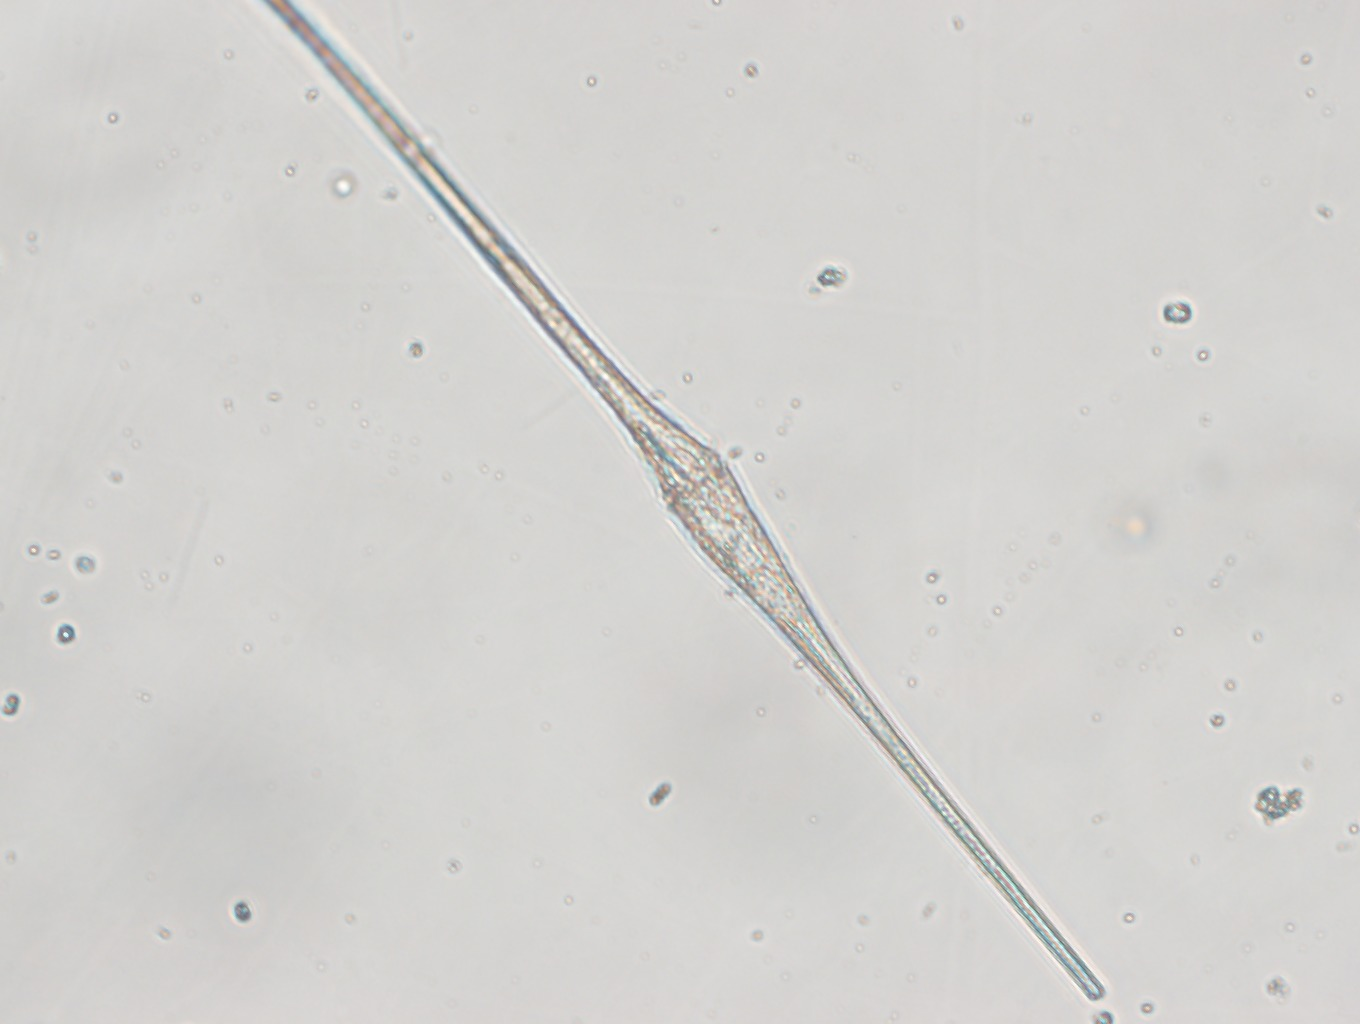ceratium fusus: (241, 2, 1106, 1002)
